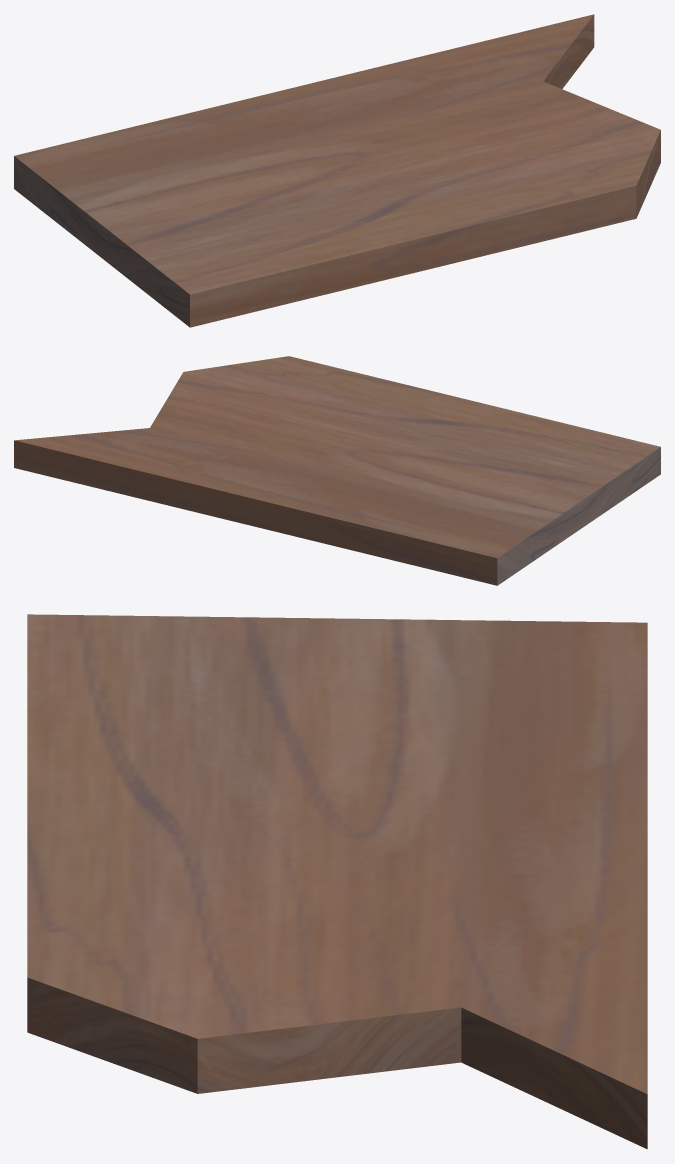
File: plank-split-c2.fbx
3 renders of one model, top to bottom at view 1: azimuth 30°, elevation 25°; view 2: azimuth 150°, elevation 25°; view 3: azimuth 270°, elevation 25°, orthographic. The views are drawn at different scales.
Visible parts, largest first — view 1: plank-split-c2; view 2: plank-split-c2; view 3: plank-split-c2.
Part boxes in pixels (x1=…): plank-split-c2: x1=14, y1=14, x2=660, y2=327; plank-split-c2: x1=14, y1=356, x2=660, y2=585; plank-split-c2: x1=27, y1=614, x2=647, y2=1149.
Bounding box in the file's own units: 18.6 × 0.9957 × 10.16.
